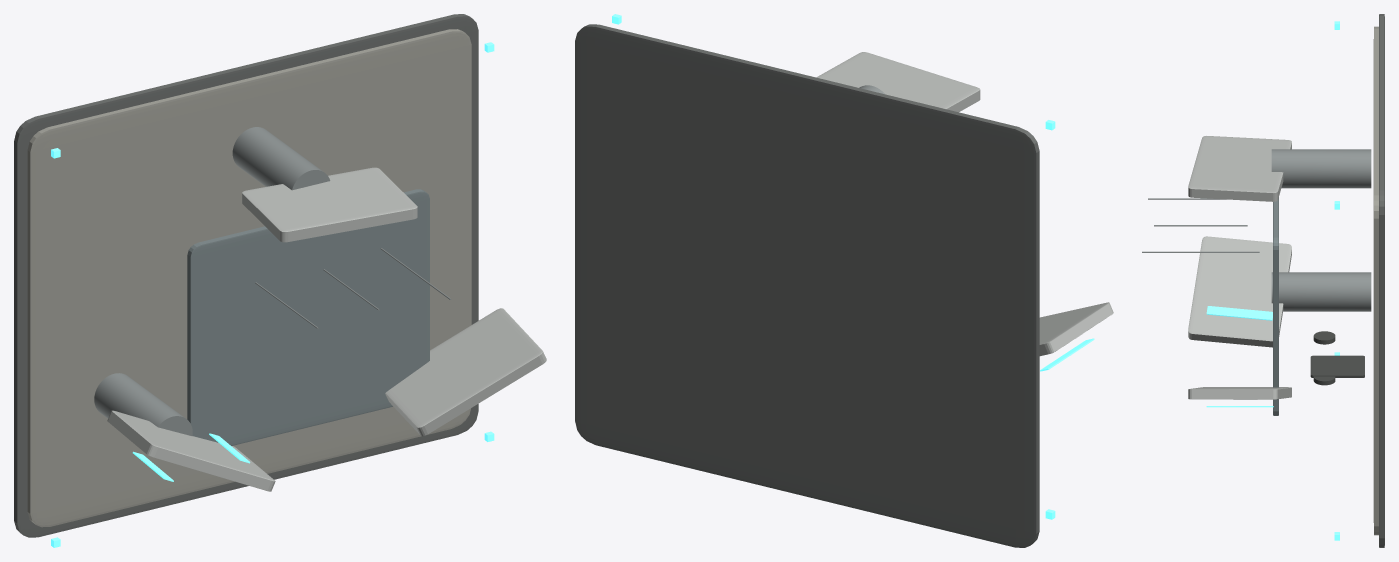
The model's file is b-24-jammer-lod2.glb.
3 views of the same model, side by side, from view 1: azimuth 30°, elevation 25°; view 2: azimuth 150°, elevation 25°; view 3: azimuth 270°, elevation 25° (orthographic). The views are drawn at different scales.
Parts seen in each view (by area): view 1: foundation_inner_pad, jammer_core_roof, foundation, primary_jammer_array_1, primary_jammer_array_2, primary_jammer_array_0, array_pedestal_2, array_pedestal_0; view 2: foundation, primary_jammer_array_2, primary_jammer_array_0; view 3: primary_jammer_array_0, primary_jammer_array_2, array_pedestal_2, array_pedestal_0, foundation, foundation_inner_pad, primary_jammer_array_1, jammer_core_door_1, jammer_core_roof, jammer_cell_0_2.
Boxes of the visible parts, x1,y1,x2,y2 form: foundation_inner_pad: (27, 29, 471, 527); jammer_core_roof: (187, 189, 429, 445); foundation: (14, 14, 478, 537); primary_jammer_array_1: (385, 308, 546, 436); primary_jammer_array_2: (242, 167, 417, 242); primary_jammer_array_0: (107, 410, 275, 491); array_pedestal_2: (232, 127, 330, 190); array_pedestal_0: (94, 373, 192, 436); foundation: (575, 24, 1039, 547); primary_jammer_array_2: (816, 52, 980, 112); primary_jammer_array_0: (1039, 302, 1113, 356); primary_jammer_array_0: (1188, 236, 1291, 347); primary_jammer_array_2: (1188, 136, 1291, 201); array_pedestal_2: (1271, 149, 1371, 188); array_pedestal_0: (1271, 272, 1371, 311); foundation: (1379, 14, 1384, 547); foundation_inner_pad: (1373, 26, 1378, 535); primary_jammer_array_1: (1188, 387, 1291, 399); jammer_core_door_1: (1310, 355, 1364, 377); jammer_core_roof: (1273, 197, 1278, 415); jammer_cell_0_2: (1206, 306, 1272, 320).
Size of what is drawn, in the model's own units: 15 by 13 by 8.05.
